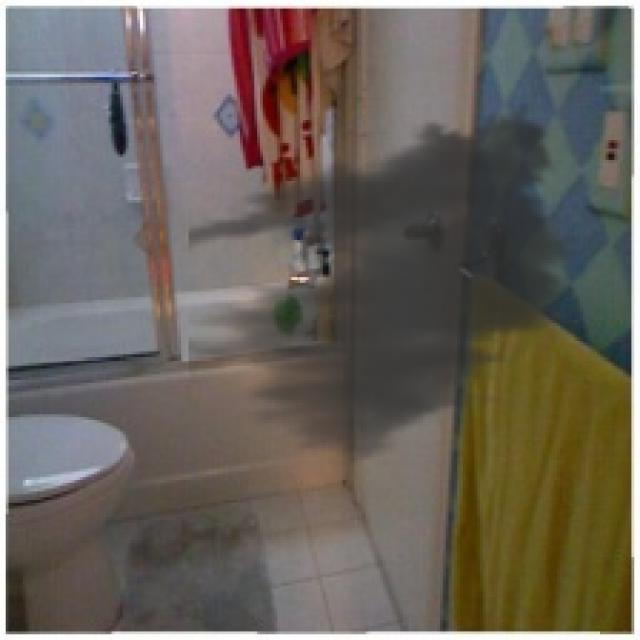smoke: (188, 94, 588, 472)
